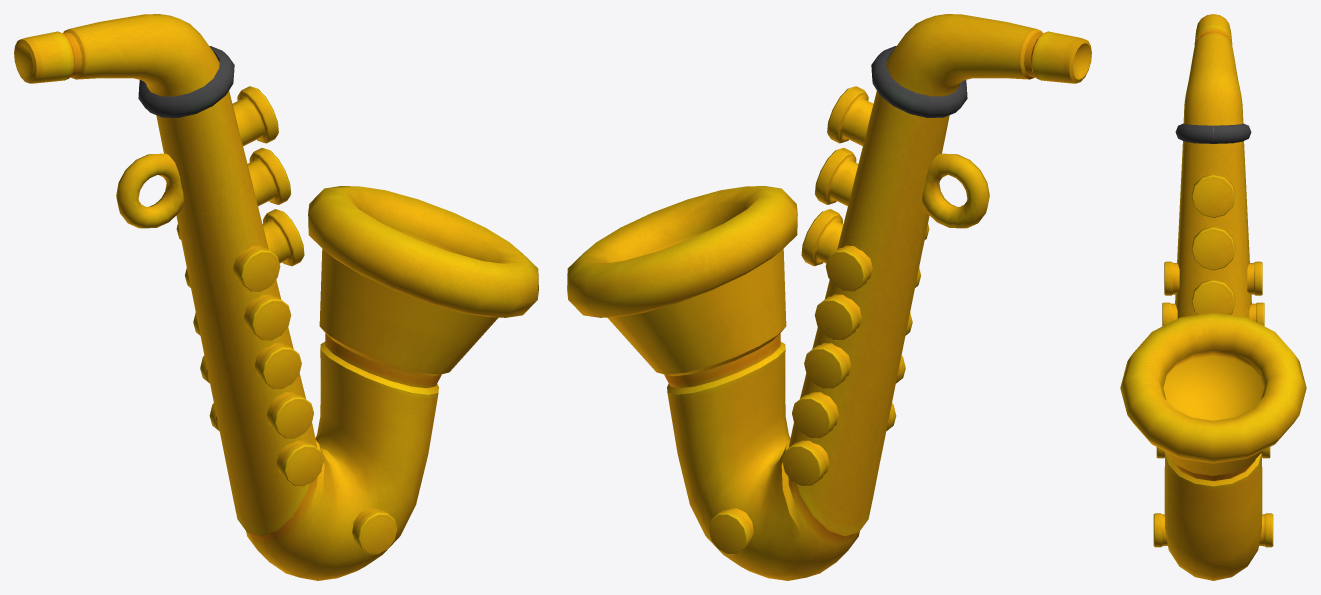
The model's file is saxophone_yellow.fbx.
3 renders of one model, left to right at view 1: azimuth 30°, elevation 25°; view 2: azimuth 150°, elevation 25°; view 3: azimuth 270°, elevation 25°, orthographic. The views are drawn at different scales.
Parts seen in each view (by area): view 1: saxophone_yellow; view 2: saxophone_yellow; view 3: saxophone_yellow.
Part boxes in pixels (<box>): saxophone_yellow: <box>14,14,538,580</box>; saxophone_yellow: <box>567,14,1091,580</box>; saxophone_yellow: <box>1120,14,1306,580</box>.
Size of the model in its own units: 0.8513 by 0.9879 by 0.3696.
